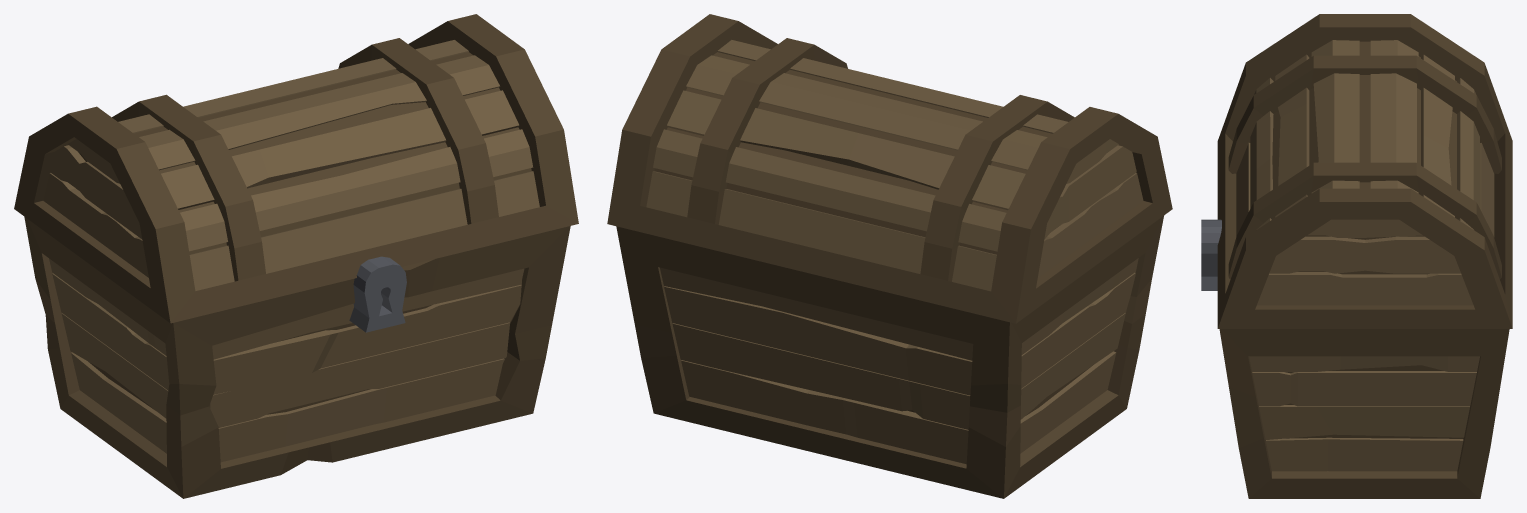
Rendered from Chest.glb.
3 renders of one model, left to right at view 1: azimuth 30°, elevation 25°; view 2: azimuth 150°, elevation 25°; view 3: azimuth 270°, elevation 25°, orthographic. The views are drawn at different scales.
Parts seen in each view (by area): view 1: Chest_Top, Chest_Base; view 2: Chest_Top, Chest_Base; view 3: Chest_Top, Chest_Base.
Boxes of the visible parts, x1,y1,x2,y2 form: Chest_Top: (14, 14, 578, 323); Chest_Base: (24, 217, 570, 498); Chest_Top: (607, 14, 1172, 323); Chest_Base: (616, 216, 1163, 498); Chest_Top: (1217, 14, 1512, 328); Chest_Base: (1201, 219, 1509, 498).
Size of the model in its own units: 1.18 by 0.9093 by 0.8264.
